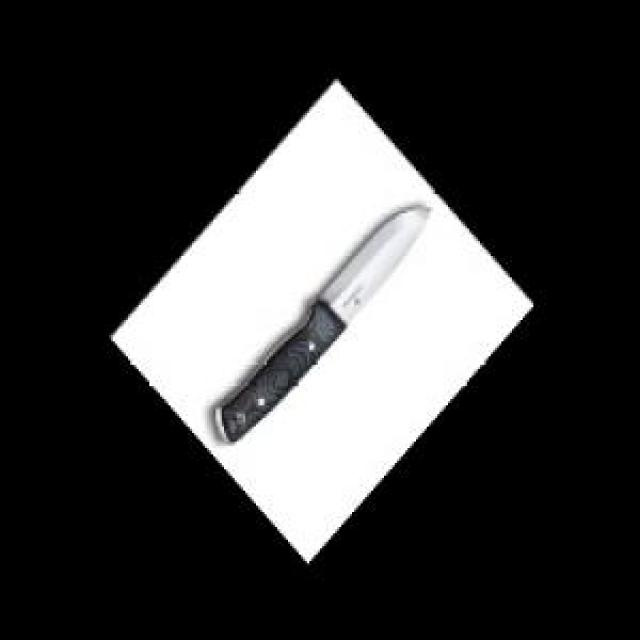knife: (211, 211, 424, 441)
